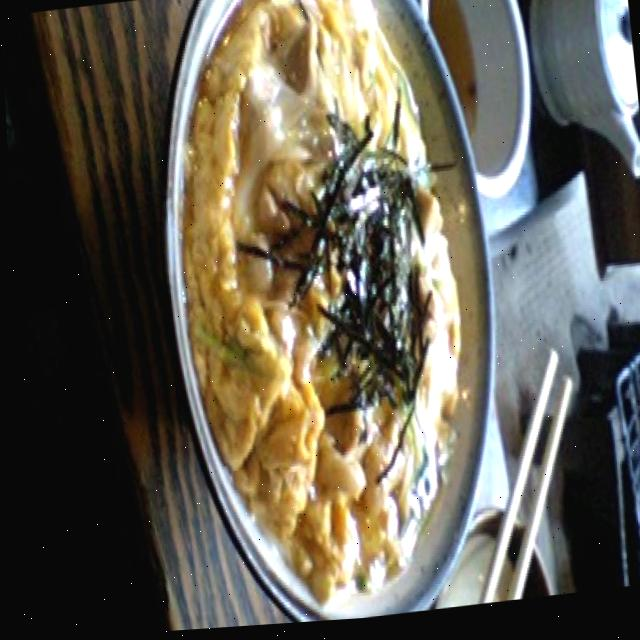米饭主食: (118, 0, 527, 634)
